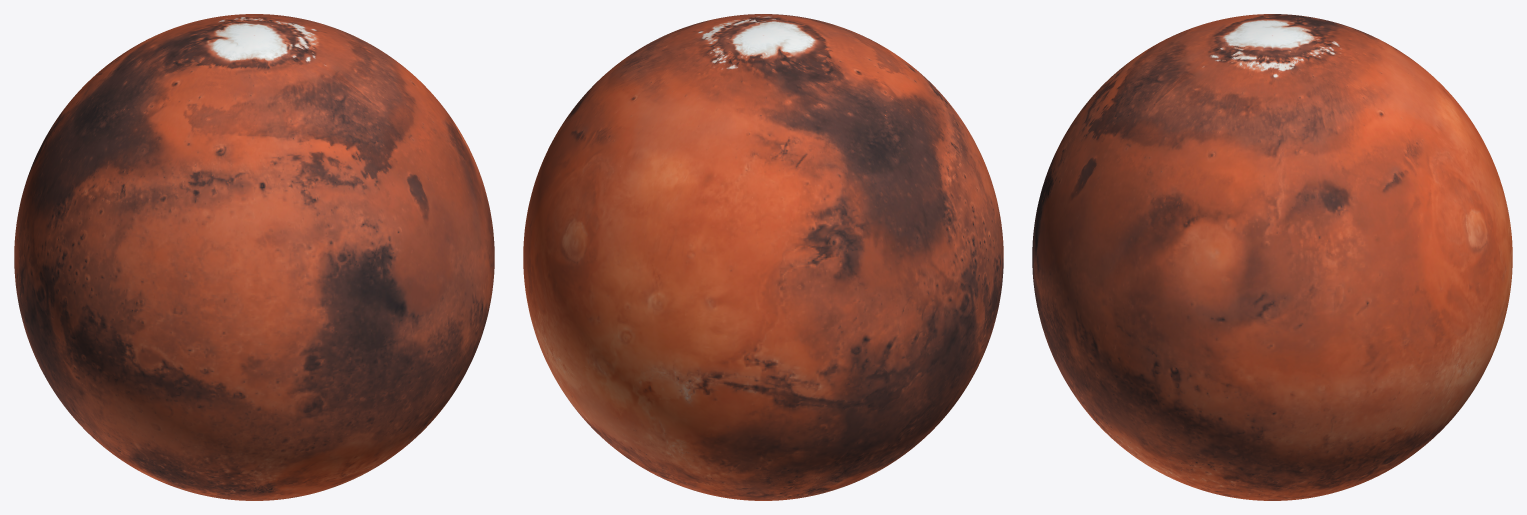
File: mars.glb
3 views of the same model, side by side, from view 1: azimuth 30°, elevation 25°; view 2: azimuth 150°, elevation 25°; view 3: azimuth 270°, elevation 25° (orthographic).
Visible parts, largest first — view 1: pSphere1; view 2: pSphere1; view 3: pSphere1.
Boxes of the visible parts, x1,y1,x2,y2 form: pSphere1: [14, 14, 494, 500]; pSphere1: [523, 14, 1003, 500]; pSphere1: [1032, 14, 1512, 500].
Size of the model in its own units: 14.38 by 14.65 by 14.38.
1 material, 1 textured.
